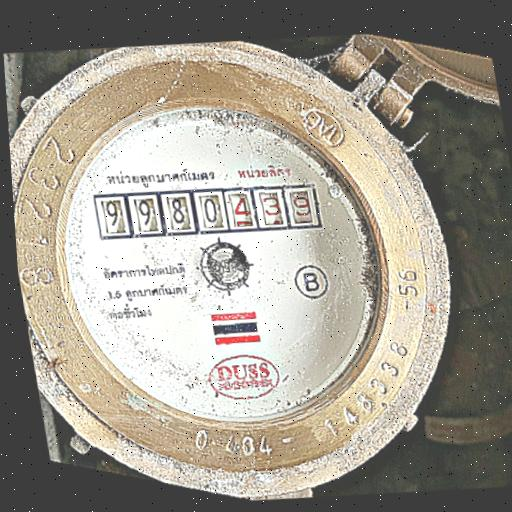0: (200, 195, 223, 230)
3: (258, 190, 283, 227)
4: (229, 193, 254, 230)
8: (167, 196, 191, 231)
9: (133, 198, 160, 233), (289, 191, 314, 224), (102, 200, 126, 234)
border_water_meter_number: (91, 171, 326, 252)
